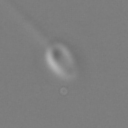normal: (2, 1, 54, 46)
